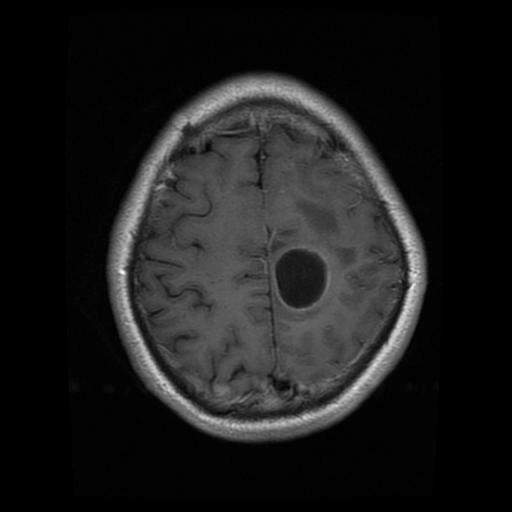Tumour-Glioma: (273, 238, 335, 316)
